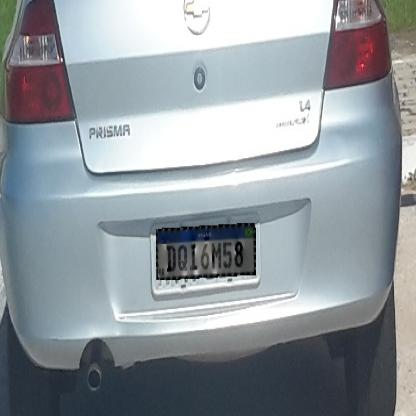PlacaM: (156, 223, 256, 280)
